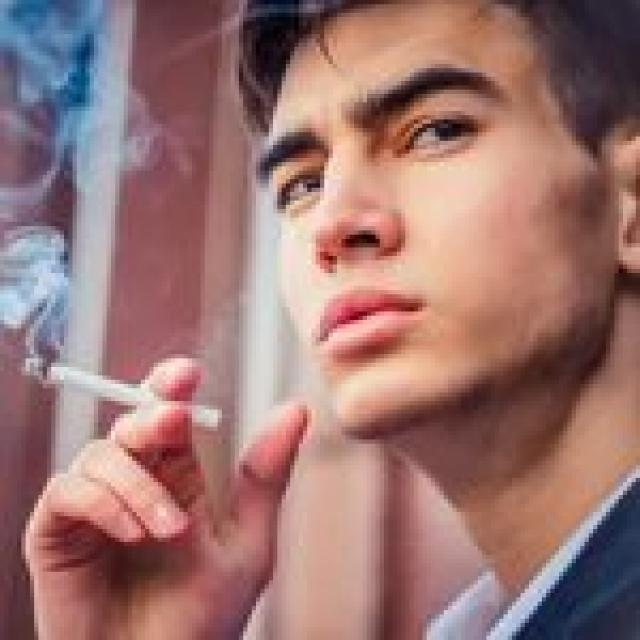smoke: (17, 350, 226, 435)
